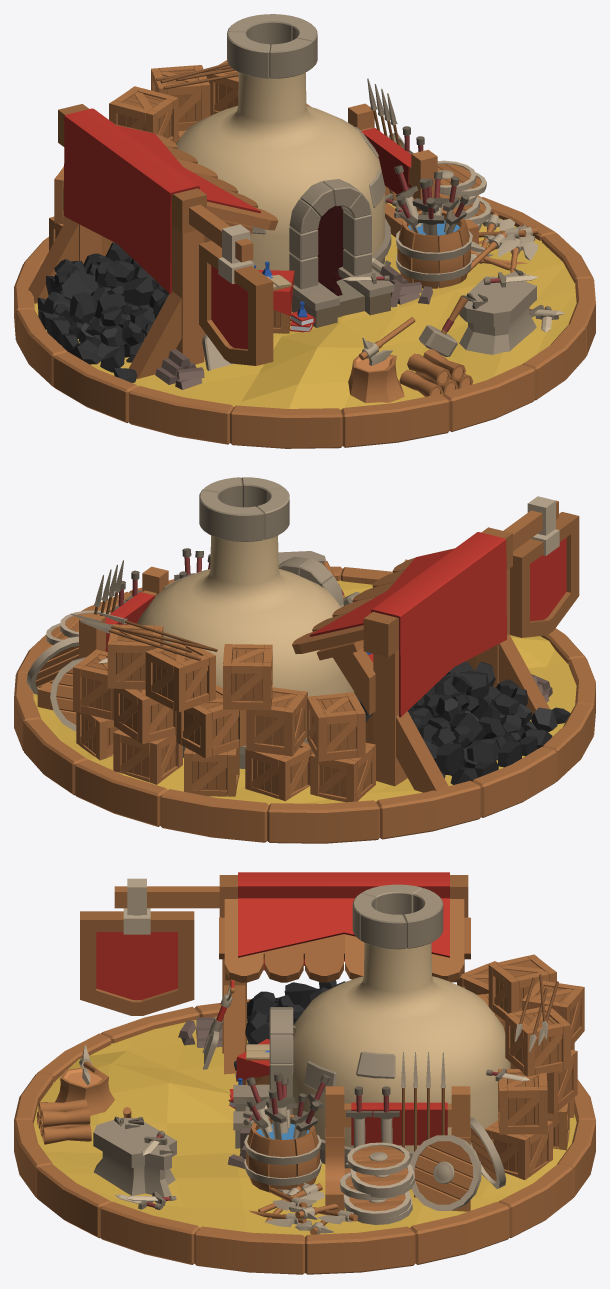
File: colorful_draft_forge.glb
3 renders of one model, top to bottom at view 1: azimuth 30°, elevation 25°; view 2: azimuth 150°, elevation 25°; view 3: azimuth 270°, elevation 25°, orthographic.
Parts seen in each view (by area): view 1: Cylinder.003, Cube.050, Cylinder.001, Cube.240, Plane.001, Circle.007, Cylinder.033, Cube.005, Cube.006, Cylinder.004, Cube.239, Cube.007 (+27 smaller); view 2: Cylinder.003, Cylinder.001, Cube.240, Cube.050, Plane.001, Cylinder.033, Cube.236, Cube.282, Cube.238, Cube.235, Cube.239, Cube.008 (+31 smaller); view 3: Cylinder.003, Cube.050, Cylinder.001, Cube.240, Plane.001, Plane, Cylinder.033, Cube.005, Cylinder.008, Cube.002, Cube.233, Cube.229 (+30 smaller).
Boxes of the visible parts, x1,y1,x2,y2 form: Cylinder.003: (14,195,595,448); Cube.050: (34,203,576,409); Cylinder.001: (176,72,384,270); Cube.240: (64,108,260,293); Plane.001: (199,241,273,365); Circle.007: (289,179,371,289); Cylinder.033: (227,14,317,78); Cube.005: (459,271,536,354); Cube.006: (172,226,204,364); Cylinder.004: (397,210,470,288); Cube.239: (109,86,178,143); Cube.007: (129,291,205,378); Cylinder.003: (14,566,595,843); Cylinder.001: (137,535,354,696); Cube.240: (310,532,506,717); Cube.050: (33,580,576,804); Plane.001: (510,512,579,637); Cylinder.033: (199,477,289,541); Cube.236: (145,640,215,712); Cube.282: (307,692,365,761); Cube.238: (246,687,307,756); Cube.235: (176,685,246,758); Cube.239: (223,644,272,710); Cube.008: (373,650,407,786); Cylinder.003: (14,998,595,1274); Cube.050: (33,1016,576,1236); Cylinder.001: (292,943,510,1151); Cube.240: (238,872,449,970); Plane.001: (80,911,194,1015); Plane: (224,899,464,982); Cylinder.033: (352,884,443,949); Cube.005: (93,1117,176,1196); Cylinder.008: (409,1135,481,1210); Cube.002: (325,1086,470,1211); Cube.233: (505,1005,570,1076); Cube.229: (498,1069,547,1134).
Bounding box in the file's own units: 5.16 × 2.51 × 5.16.
